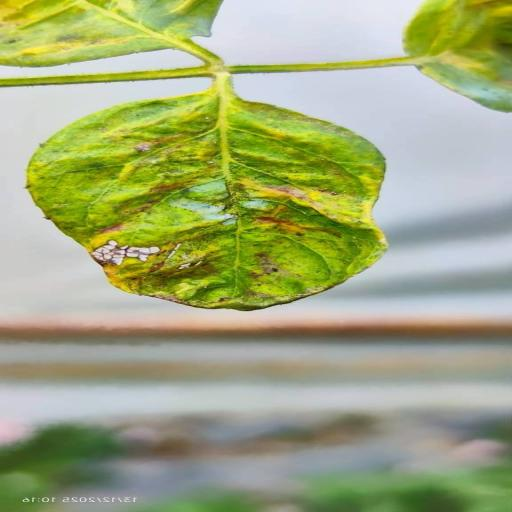thrip: (28, 77, 385, 310), (0, 0, 222, 66), (404, 0, 511, 112)
